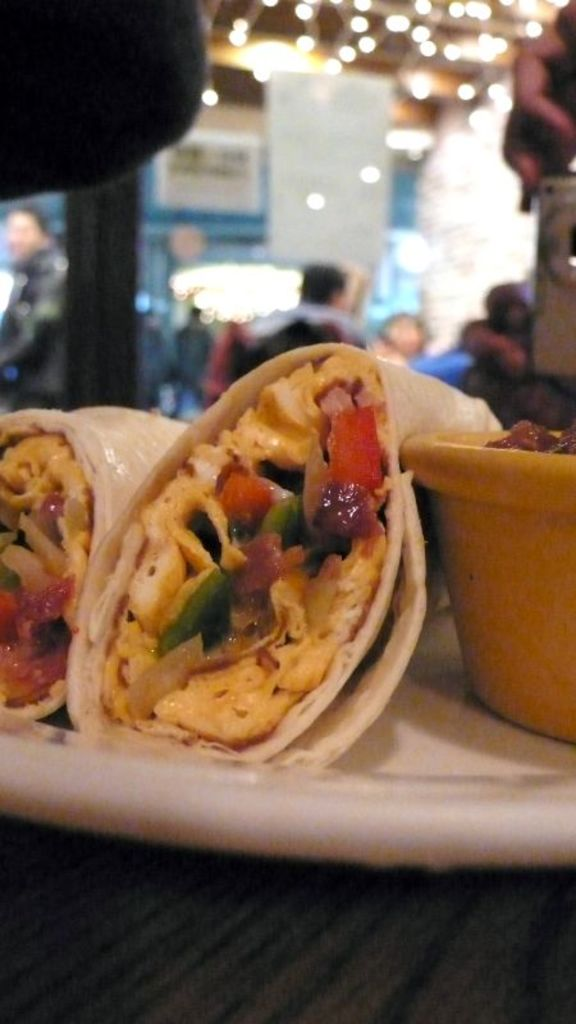taco: (40, 303, 477, 788), (0, 408, 187, 722)
